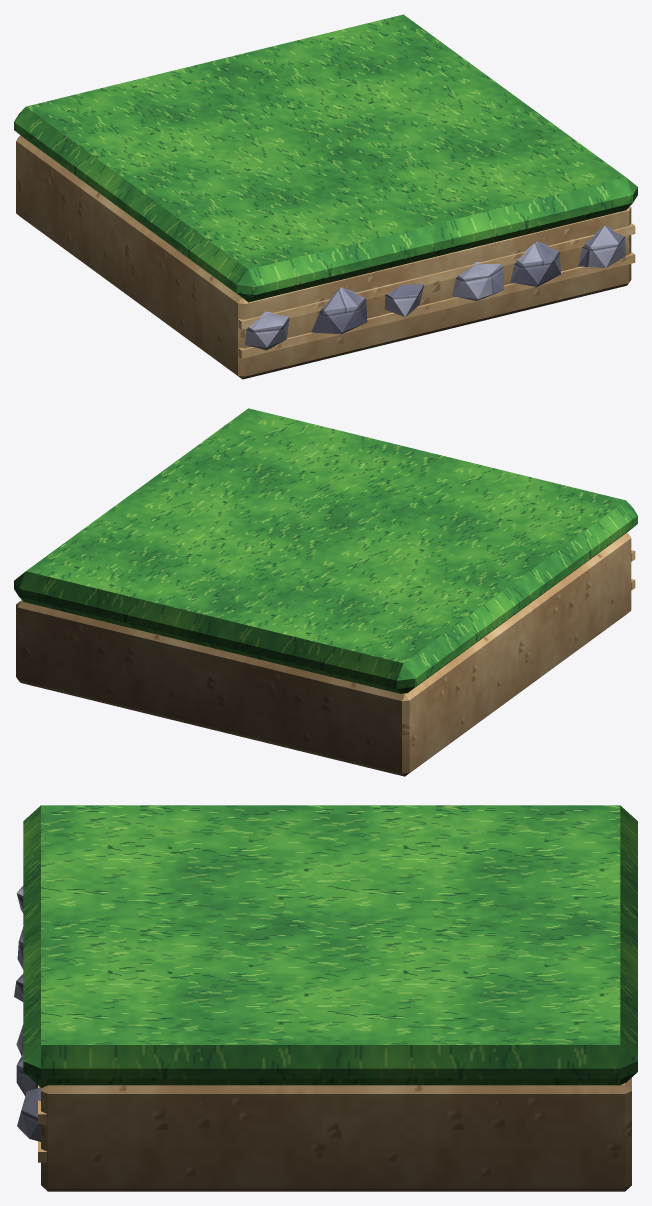
Rendered from ledge.glb.
3 renders of one model, top to bottom at view 1: azimuth 30°, elevation 25°; view 2: azimuth 150°, elevation 25°; view 3: azimuth 270°, elevation 25°, orthographic. The views are drawn at different scales.
Visible parts, largest first — view 1: ledge; view 2: ledge; view 3: ledge.
Boxes of the visible parts, x1,y1,x2,y2 form: ledge: (14,14,637,379); ledge: (14,408,637,776); ledge: (14,805,637,1191).
Bounding box in the file's own units: 1.02 × 0.272 × 1.06.
7 materials, 7 textured.
